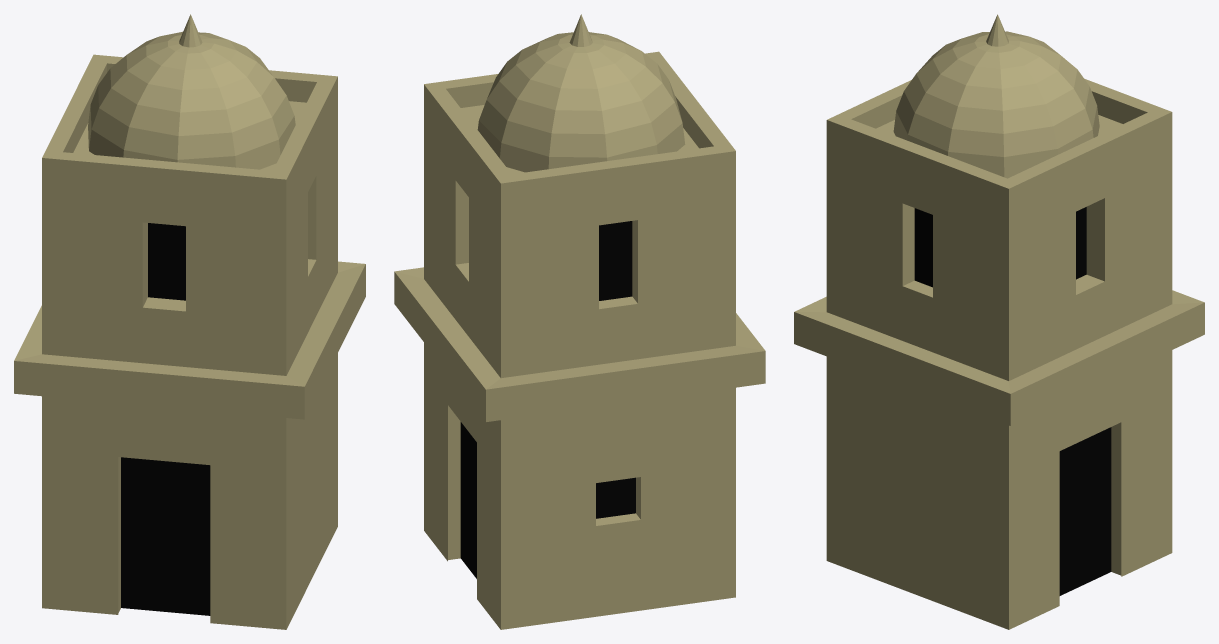
The model's file is _ijhuis 1.fbx.
The picture shows the model from 3 angles, left to right: view 1: azimuth 30°, elevation 25°; view 2: azimuth 150°, elevation 25°; view 3: azimuth 270°, elevation 25°; orthographic projection. The views are drawn at different scales.
Visible parts, largest first — view 1: pCube169; view 2: pCube169; view 3: pCube169.
Part boxes in pixels (<box>): pCube169: <box>14,14,365,629</box>; pCube169: <box>394,14,765,629</box>; pCube169: <box>794,14,1204,629</box>.
Bounding box in the file's own units: 542 × 790 × 542.
